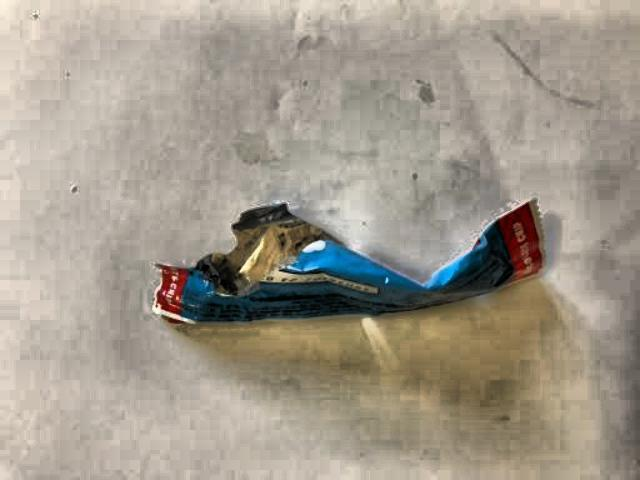Plastic: (131, 167, 565, 351)
